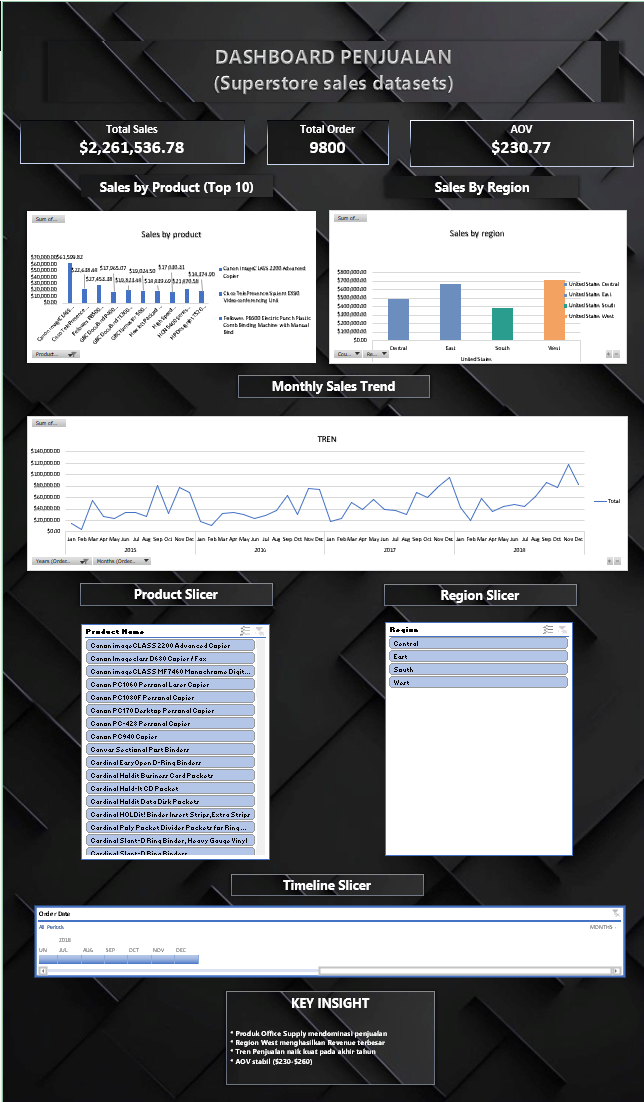

This screenshot's page, from the dashboard's own definition file:
{"tool":"powerbi","page":{"name":"Page 1","canvas":[1280,720],"ordinal":0},"visuals":[{"type":"cardVisual","fields":{"Data":["train.Total Sales"]},"box":[675,8.3,186.7,181.7],"z":0},{"type":"cardVisual","fields":{"Data":["train.Total Orders"]},"box":[460,8.3,180,183.3],"z":1000},{"type":"cardVisual","fields":{"Data":["train.AOV"]},"box":[256.7,8.3,180,183.3],"z":2000},{"type":"columnChart","title":"Sales By Product","fields":{"Category":["train.Product Name"],"Y":["train.Total Sales"]},"box":[256.7,210,605,300],"z":3000},{"type":"actionButton","box":[0,0,100,40],"z":4000},{"type":"clusteredColumnChart","title":"Sales By Region","fields":{"Category":["train.Region"],"Y":["train.Total Sales"]},"box":[906.7,8.3,348.3,501.7],"z":5000},{"type":"lineChart","title":"Monthly Trend","fields":{"Category":["train.Order Date.Variation.Date Hierarchy.Month","train.Order Date.Variation.Date Hierarchy.Day"],"Y":["train.Total Sales"]},"box":[415,530,843.3,175],"z":6000},{"type":"slicer","fields":{"Values":["train.Product Name"]},"box":[13.3,8.3,210,373.3],"z":7000},{"type":"slicer","fields":{"Values":["train.Region"]},"box":[13.3,395,210,150],"z":8000},{"type":"slicer","fields":{"Values":["train.Order Date"]},"box":[13.3,563.3,386.7,141.7],"z":8500}]}

Visuals, with their boxes on the page's 1280x720 design canvas (x1, y1, x2, y2). These are canvas units, not pixel positions in the 644x1102 screenshot, which may show the page scaled, cropped or inside an application window:
cardVisual - train.Total Sales: [675,8,862,190]
cardVisual - train.Total Orders: [460,8,640,192]
cardVisual - train.AOV: [257,8,437,192]
"Sales By Product" columnChart: [257,210,862,510]
actionButton: [0,0,100,40]
"Sales By Region" clusteredColumnChart: [907,8,1255,510]
"Monthly Trend" lineChart: [415,530,1258,705]
slicer - train.Product Name: [13,8,223,382]
slicer - train.Region: [13,395,223,545]
slicer - train.Order Date: [13,563,400,705]
